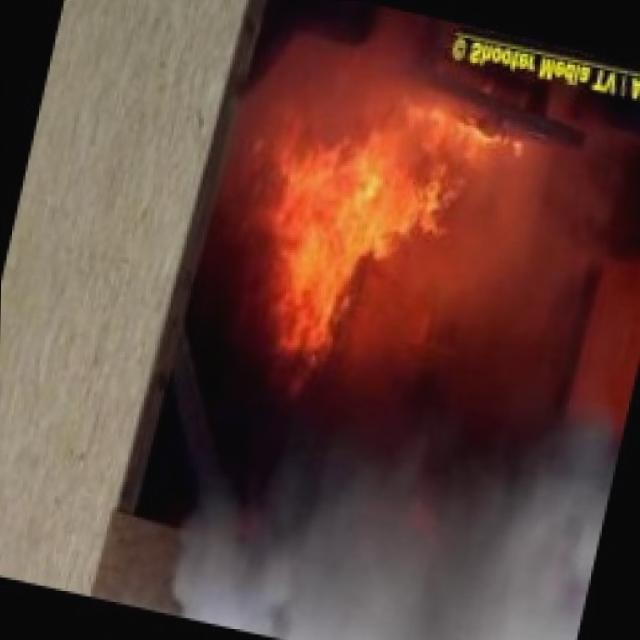fire: (218, 69, 520, 414)
